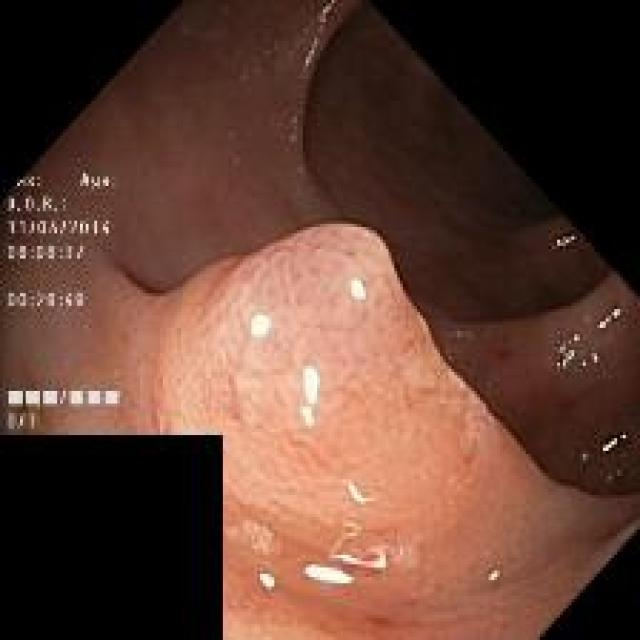Polyps: (144, 225, 640, 639)
